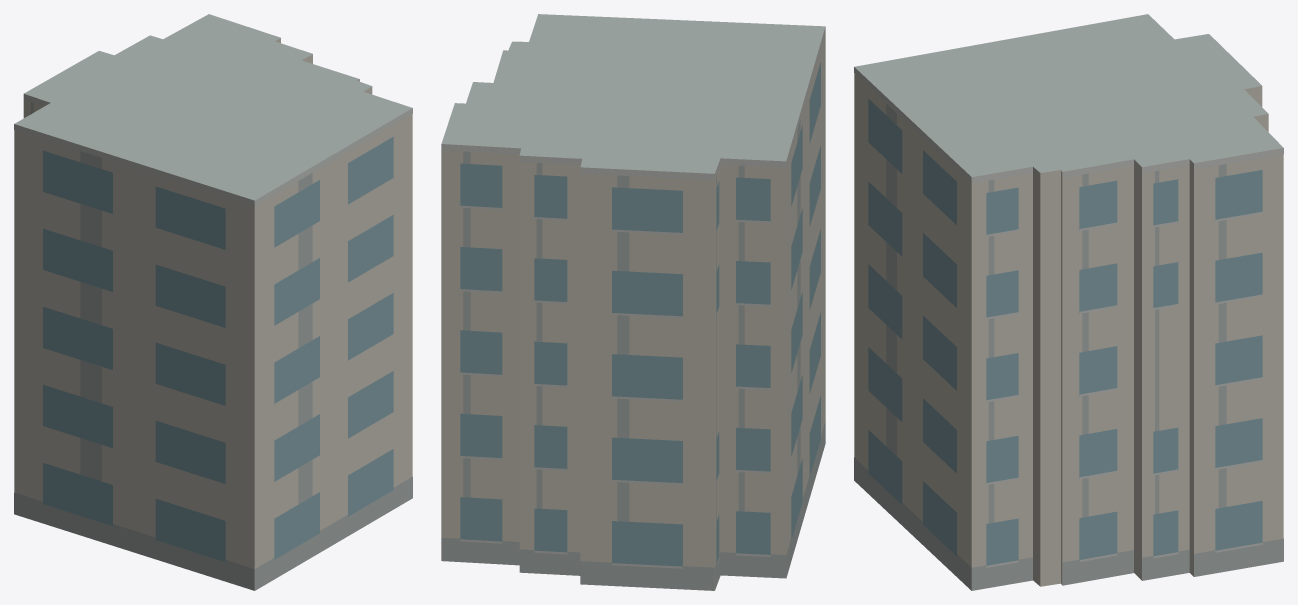
Rendered from survey-upis-32765199.glb.
3 renders of one model, left to right at view 1: azimuth 30°, elevation 25°; view 2: azimuth 150°, elevation 25°; view 3: azimuth 270°, elevation 25°, orthographic. The views are drawn at different scales.
Visible parts, largest first — view 1: survey-upis-32765199.tmp; view 2: survey-upis-32765199.tmp; view 3: survey-upis-32765199.tmp.
Part boxes in pixels (x1,y1,x2,y2): survey-upis-32765199.tmp: [14, 14, 412, 590]; survey-upis-32765199.tmp: [441, 14, 825, 590]; survey-upis-32765199.tmp: [854, 14, 1283, 590].
Bounding box in the file's own units: 13.54 × 16 × 15.07.
